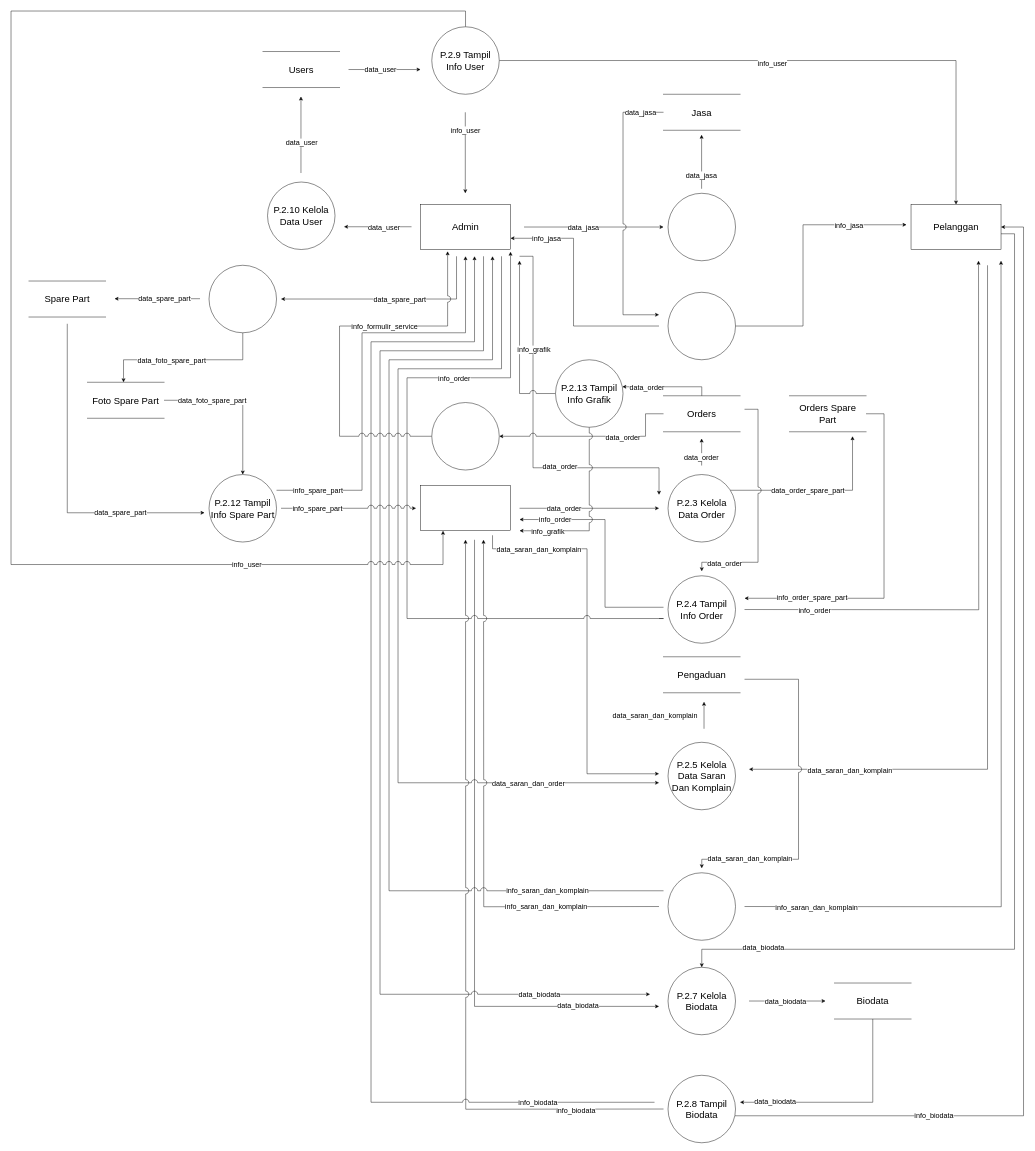
The diagram is 1035 pixels wide and 1151 high, and some of its shapes have lost their labels. The shapes that lost their labels are listed below. From the top down, each one's box as (x1, y1, x2, y2) in pixels, then its label:
(668, 193, 736, 261): P.2.1 Kelola Data Jasa
(209, 265, 277, 333): P.2.11 Kelola Data Spare Part
(668, 292, 736, 360): P.2.2 Tampil Info Jasa
(431, 402, 499, 470): P.2.14 Tampil Info Formulir Service
(420, 485, 511, 531): Teknisi
(668, 872, 736, 940): P.2.6 Tampil Info Saran Dan Komplain
